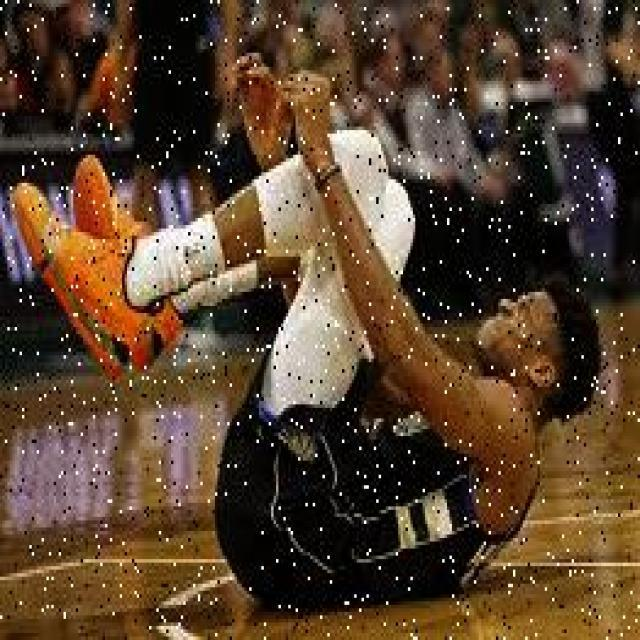fall: (39, 74, 569, 591)
